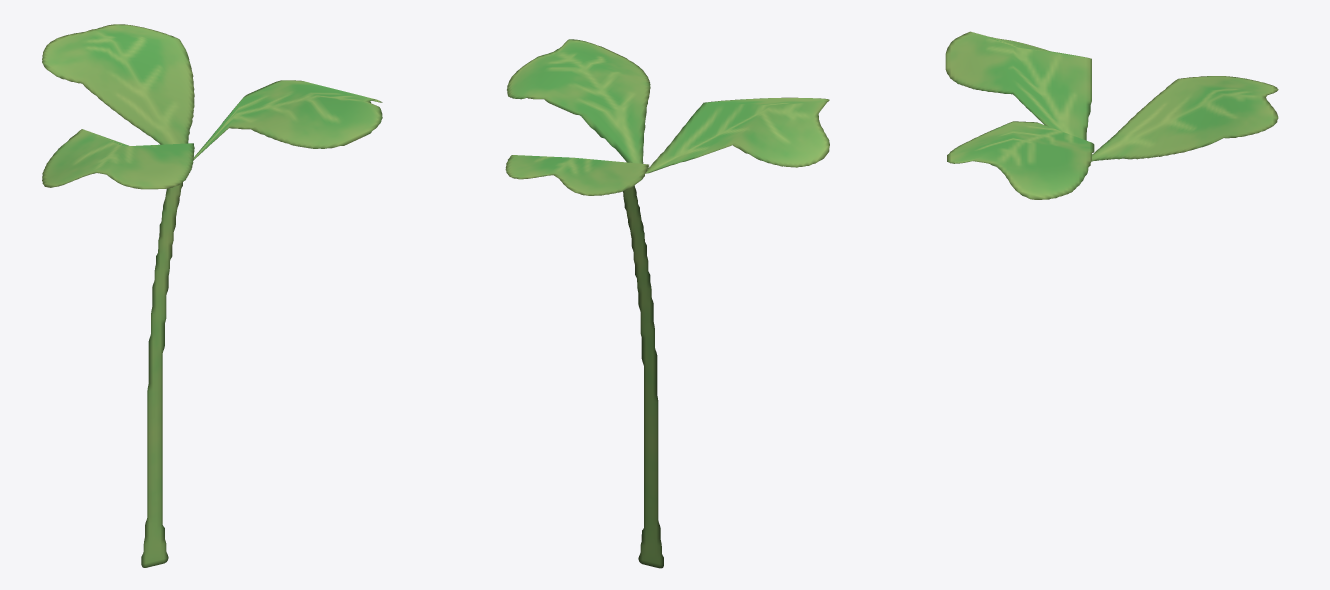
The model's file is LeafSetD_6.fbx.
The picture shows the model from 3 angles, left to right: view 1: azimuth 30°, elevation 25°; view 2: azimuth 150°, elevation 25°; view 3: azimuth 270°, elevation 25°; orthographic projection. The views are drawn at different scales.
Parts seen in each view (by area): view 1: LeafSetD_6; view 2: LeafSetD_6; view 3: LeafSetD_6.
Part boxes in pixels (bbox=[...]): LeafSetD_6: bbox=[42, 24, 382, 567]; LeafSetD_6: bbox=[505, 39, 829, 568]; LeafSetD_6: bbox=[945, 31, 1278, 199].
Bounding box in the file's own units: 0.2146 × 0.2668 × 0.2077.
